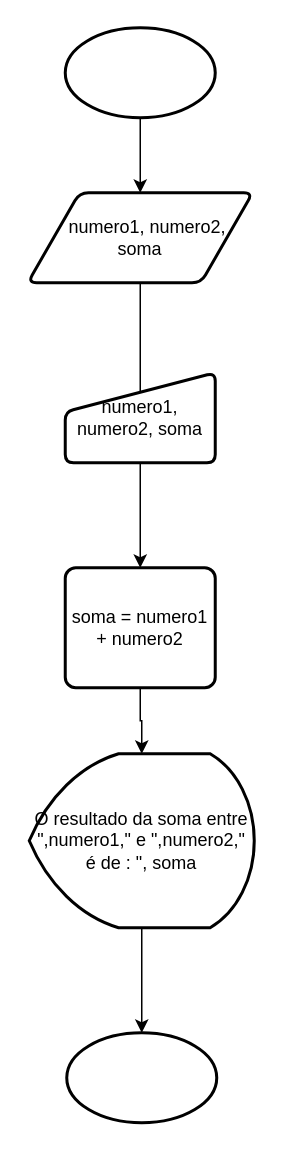
This 281x1149 diagram has some shape labels left out. Here are the shapes that lost their labels. From the top down, the centre of each, then its label:
At [139,72]: "Inicio".
At [141,1077]: "fim".
